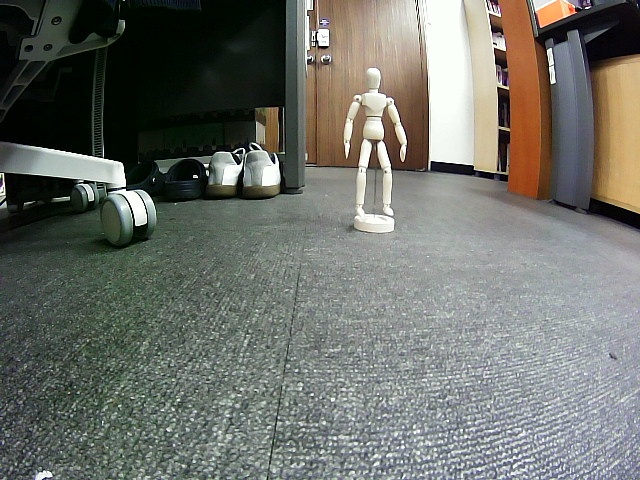person: (344, 67, 407, 217)
